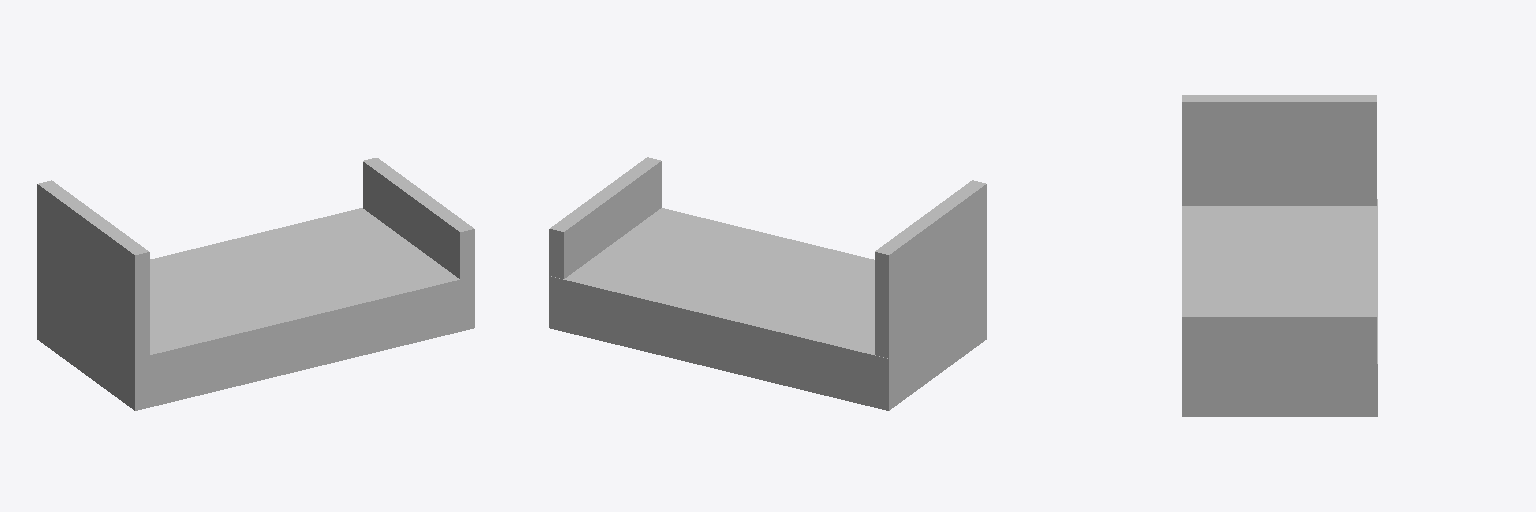
File: Single Bed LOD1.obj
3 renders of one model, left to right at view 1: azimuth 30°, elevation 25°; view 2: azimuth 150°, elevation 25°; view 3: azimuth 270°, elevation 25°, orthographic.
Visible parts, largest first — view 1: Base_Cube.029, Back_Board.002_Cube.031, Front_Board.002_Cube.030; view 2: Base_Cube.029, Back_Board.002_Cube.031, Front_Board.002_Cube.030; view 3: Base_Cube.029, Back_Board.002_Cube.031, Front_Board.002_Cube.030.
Boxes of the visible parts, <box> form: Base_Cube.029: <box>37,208,474,410</box>; Back_Board.002_Cube.031: <box>37,180,149,358</box>; Front_Board.002_Cube.030: <box>363,158,474,279</box>; Base_Cube.029: <box>549,208,986,410</box>; Back_Board.002_Cube.031: <box>875,180,986,358</box>; Front_Board.002_Cube.030: <box>549,157,661,278</box>; Base_Cube.029: <box>1182,199,1377,416</box>; Back_Board.002_Cube.031: <box>1182,95,1376,205</box>; Front_Board.002_Cube.030: <box>1182,310,1376,364</box>.
Size of the model in its own units: 13.6 by 5.96 by 6.8.